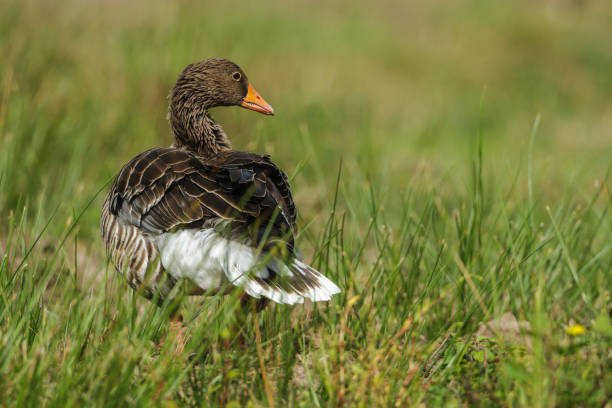goose: (93, 56, 322, 342)
